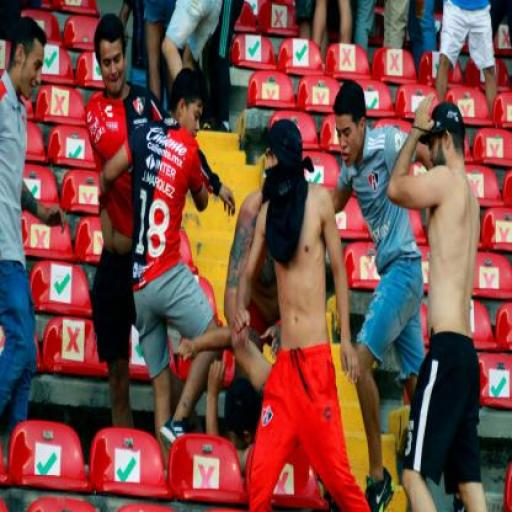Fighting: (96, 20, 489, 512)
